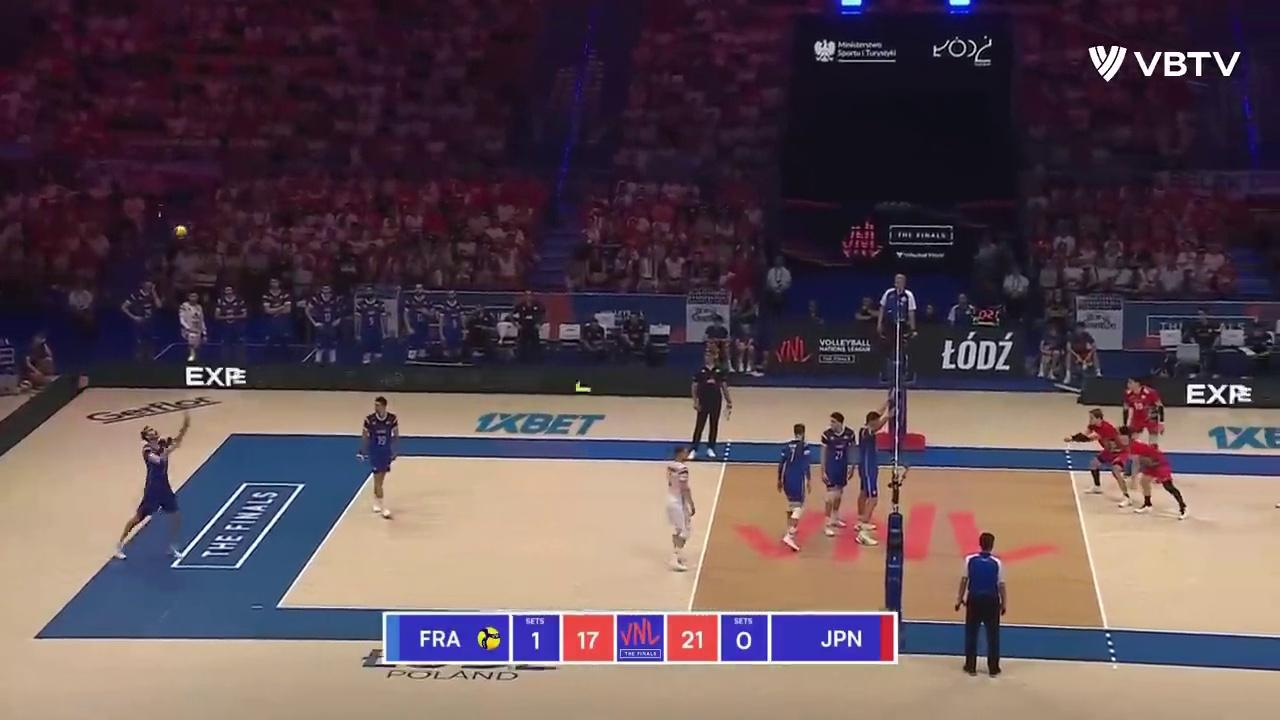ball: (177, 226, 188, 239)
